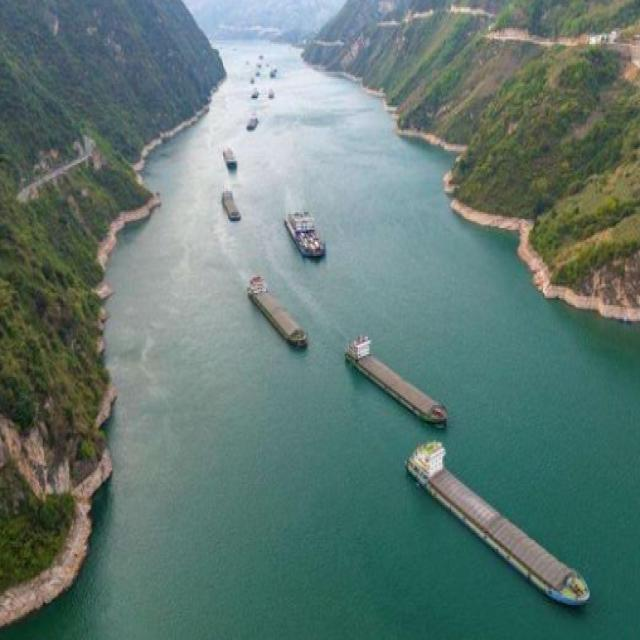cargoship: (404, 441, 594, 628), (341, 317, 451, 426), (241, 271, 309, 358), (284, 199, 335, 267), (222, 184, 247, 229), (222, 142, 238, 175)
